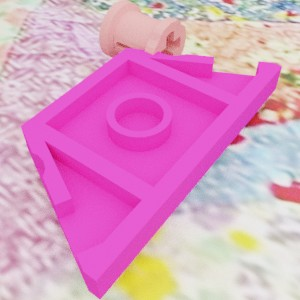lego: (20, 47, 282, 300), (99, 0, 186, 78)
